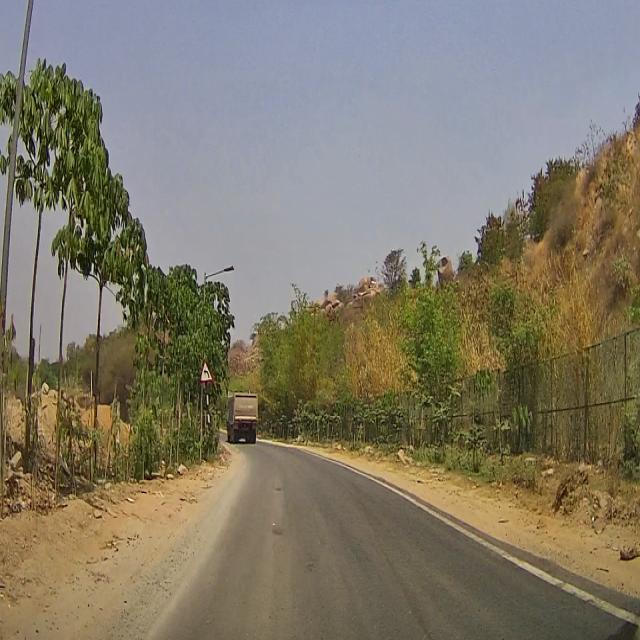left-hand-curve: (200, 359, 213, 383)
